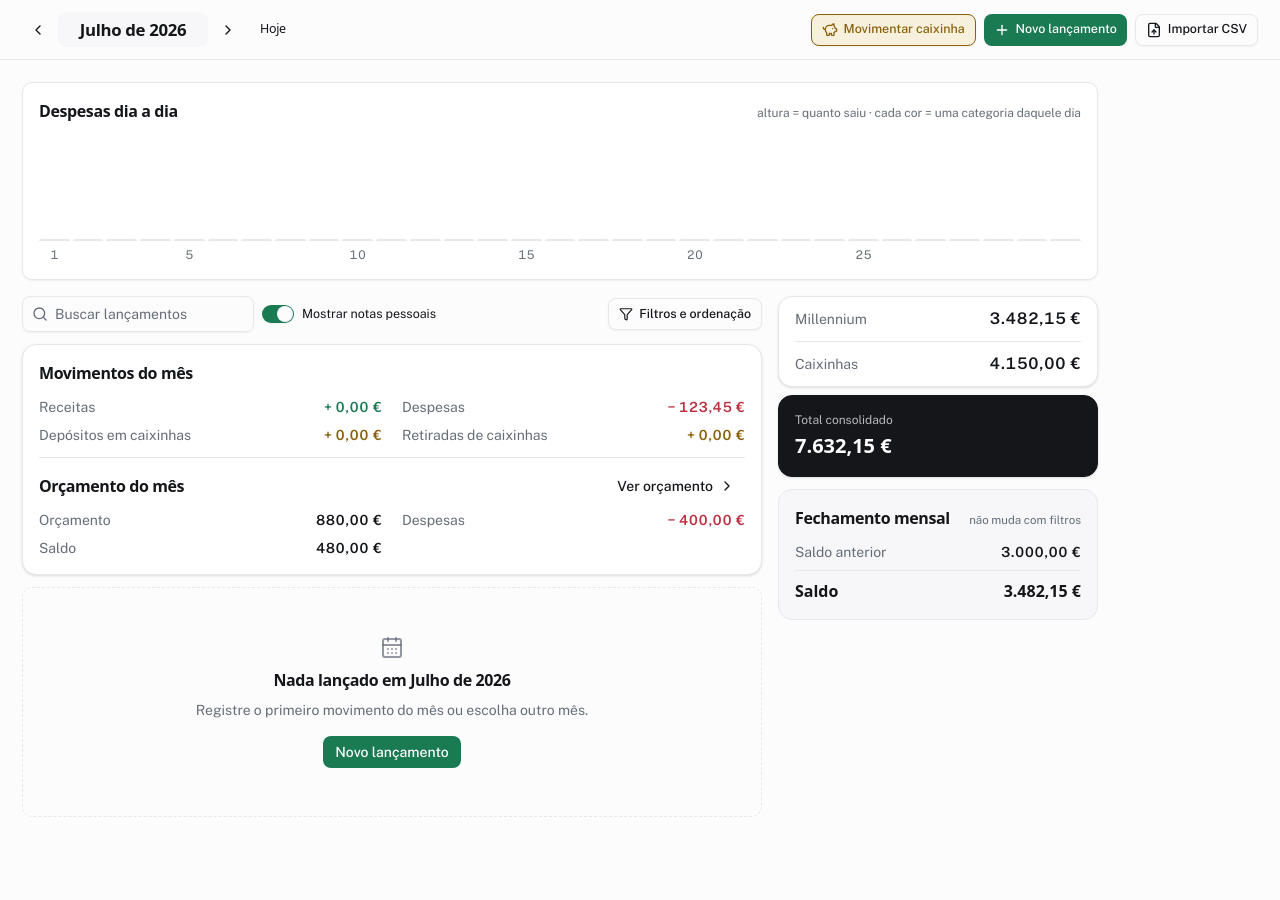
Scenario: MonthPage › opens the cashbox operation dialog from the monthly tab
expect the text "Nada lançado em Julho de 2026" is shown: met, box [273, 668, 510, 692]
Click the button "Movimentar caixinha". click: (893, 30)
box: [811, 14, 976, 46]
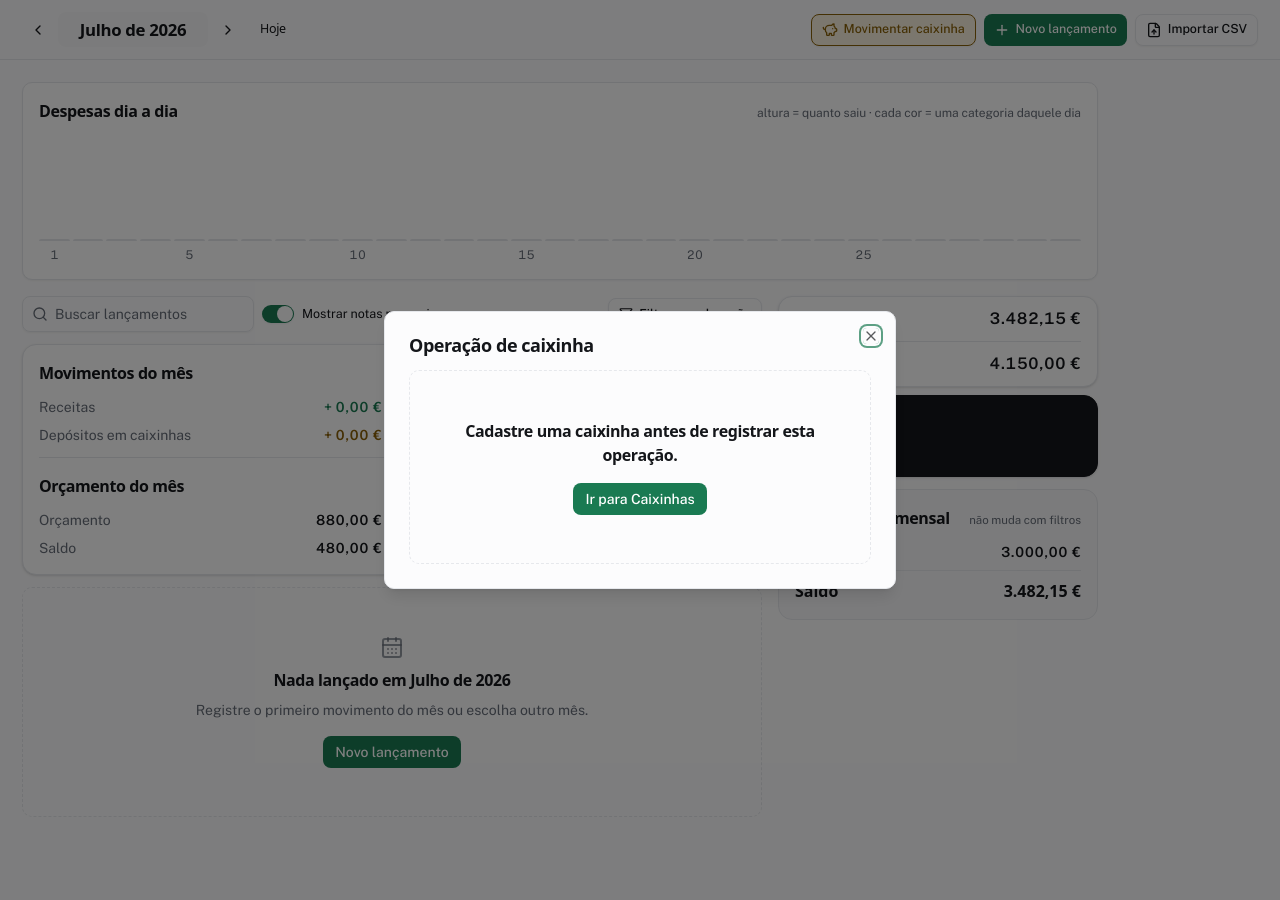
expect the heading "Operação de caixinha" is shown: met, box [409, 333, 594, 357]
